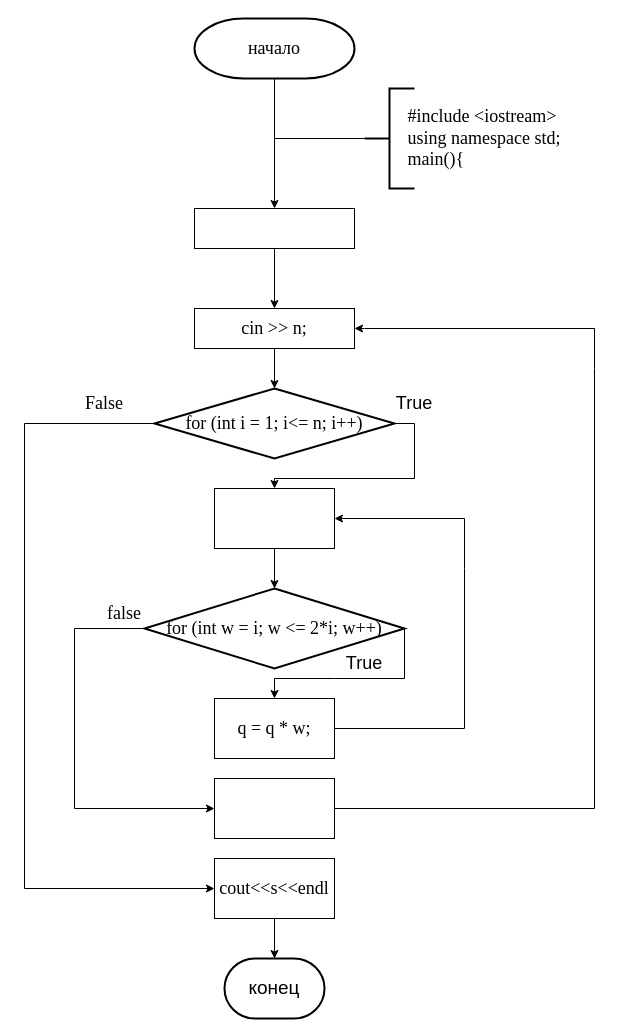
Image size: 620x1036. Some labels were removed from this diagram. Here are the shapes that lost their labels. From the top down, the centre of each, then its label:
At (274,228): "int s = 0, n;".
At (274,518): "int q = 1;".
At (274,808): "s += q".
